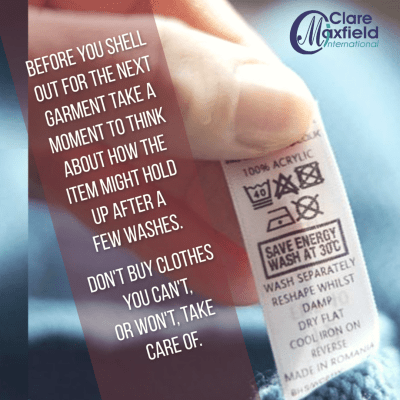do_not_dry_clean: (295, 195, 320, 220)
